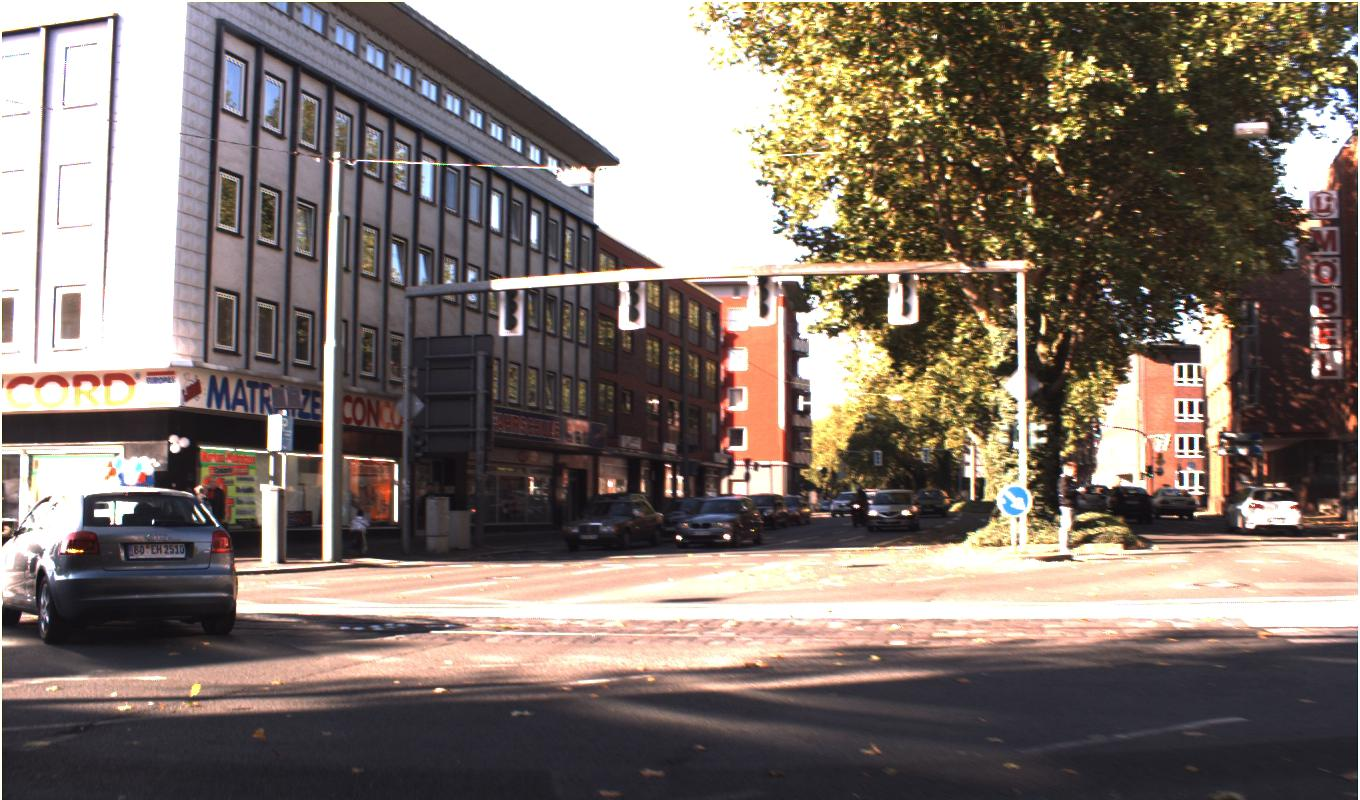mandatory: (997, 484, 1031, 517)
